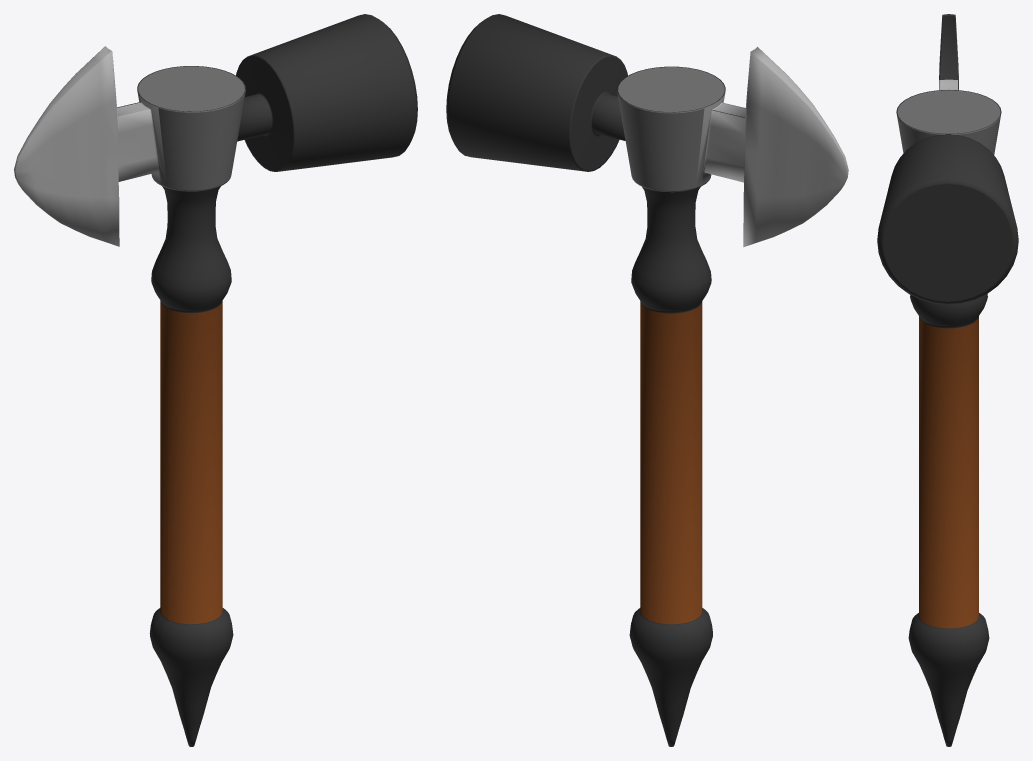
Rendered from Balta_2.fbx.
3 views of the same model, side by side, from view 1: azimuth 30°, elevation 25°; view 2: azimuth 150°, elevation 25°; view 3: azimuth 270°, elevation 25° (orthographic). The views are drawn at different scales.
Visible parts, largest first — view 1: Cylinder.004; view 2: Cylinder.004; view 3: Cylinder.004.
Boxes of the visible parts, x1,y1,x2,y2 form: Cylinder.004: (14, 14, 417, 746); Cylinder.004: (446, 14, 848, 746); Cylinder.004: (877, 14, 1018, 746).
Size of the model in its own units: 97.94 by 182 by 33.7.
